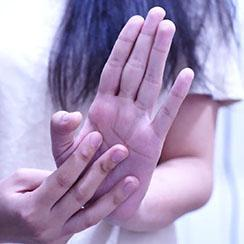M: (0, 0, 231, 244)
